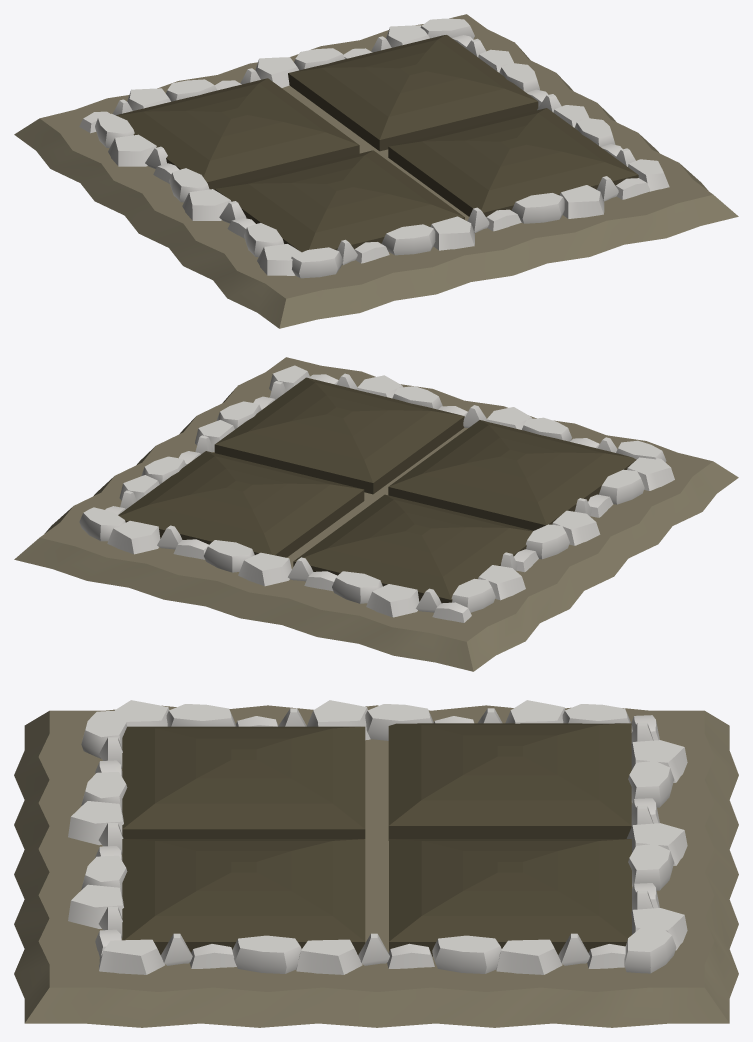
File: FarmLand.fbx
The picture shows the model from 3 angles, top to bottom: view 1: azimuth 30°, elevation 25°; view 2: azimuth 150°, elevation 25°; view 3: azimuth 270°, elevation 25°; orthographic projection. The views are drawn at different scales.
Parts seen in each view (by area): view 1: FarmLandBase, LandTop2, LandTop1, LandTop4, LandTop3, LandPebble3 (×11), LandPebble2 (×9), LandPebble4 (×3); view 2: FarmLandBase, LandTop4, LandTop3, LandTop2, LandTop1, LandPebble3 (×11), LandPebble2 (×11), LandPebble4 (×2); view 3: FarmLandBase, LandTop1, LandTop3, LandTop2, LandTop4, LandPebble3 (×11), LandPebble2 (×11), LandPebble4 (×3), LandPebble1 (×3).
Boxes of the visible parts, bbox=[...] form: FarmLandBase: bbox=[14, 14, 738, 328]; LandTop2: bbox=[288, 35, 538, 151]; LandTop1: bbox=[116, 78, 359, 189]; LandTop4: bbox=[388, 108, 638, 216]; LandTop3: bbox=[215, 150, 464, 252]; LandPebble3 (×11): bbox=[95, 18, 615, 278]; LandPebble2 (×9): bbox=[108, 25, 669, 275]; LandPebble4 (×3): bbox=[354, 178, 649, 263]; FarmLandBase: bbox=[14, 357, 738, 671]; LandTop4: bbox=[214, 377, 464, 494]; LandTop3: bbox=[388, 420, 636, 530]; LandTop2: bbox=[118, 451, 364, 557]; LandTop1: bbox=[293, 494, 533, 603]; LandPebble3 (×11): bbox=[79, 386, 666, 612]; LandPebble2 (×11): bbox=[107, 365, 674, 617]; LandPebble4 (×2): bbox=[173, 539, 471, 622]; FarmLandBase: bbox=[14, 705, 738, 1027]; LandTop1: bbox=[388, 723, 631, 840]; LandTop3: bbox=[122, 726, 365, 838]; LandTop2: bbox=[389, 839, 631, 956]; LandTop4: bbox=[122, 839, 365, 954]; LandPebble3 (×11): bbox=[81, 704, 676, 973]; LandPebble2 (×11): bbox=[68, 700, 687, 974]; LandPebble4 (×3): bbox=[189, 943, 625, 968]; LandPebble1 (×3): bbox=[161, 933, 589, 965].
Size of the model in its own units: 2.32 by 0.2242 by 2.32.
